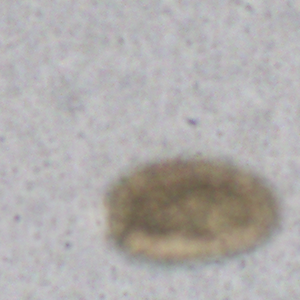Fasciola_hepatica_egg: (104, 157, 278, 264)
